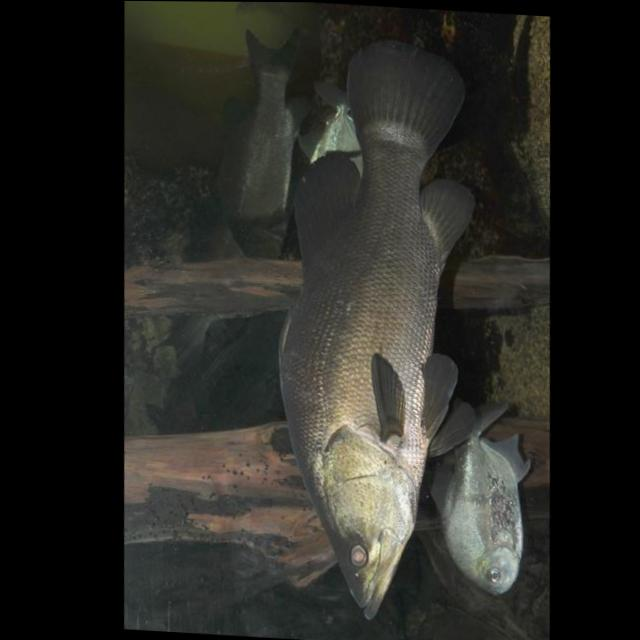Seabass: (246, 37, 509, 626)
